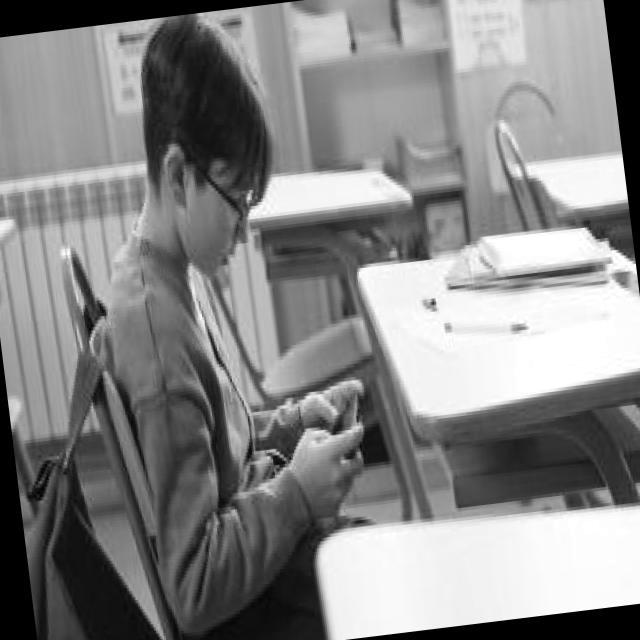phone: (326, 389, 364, 464)
